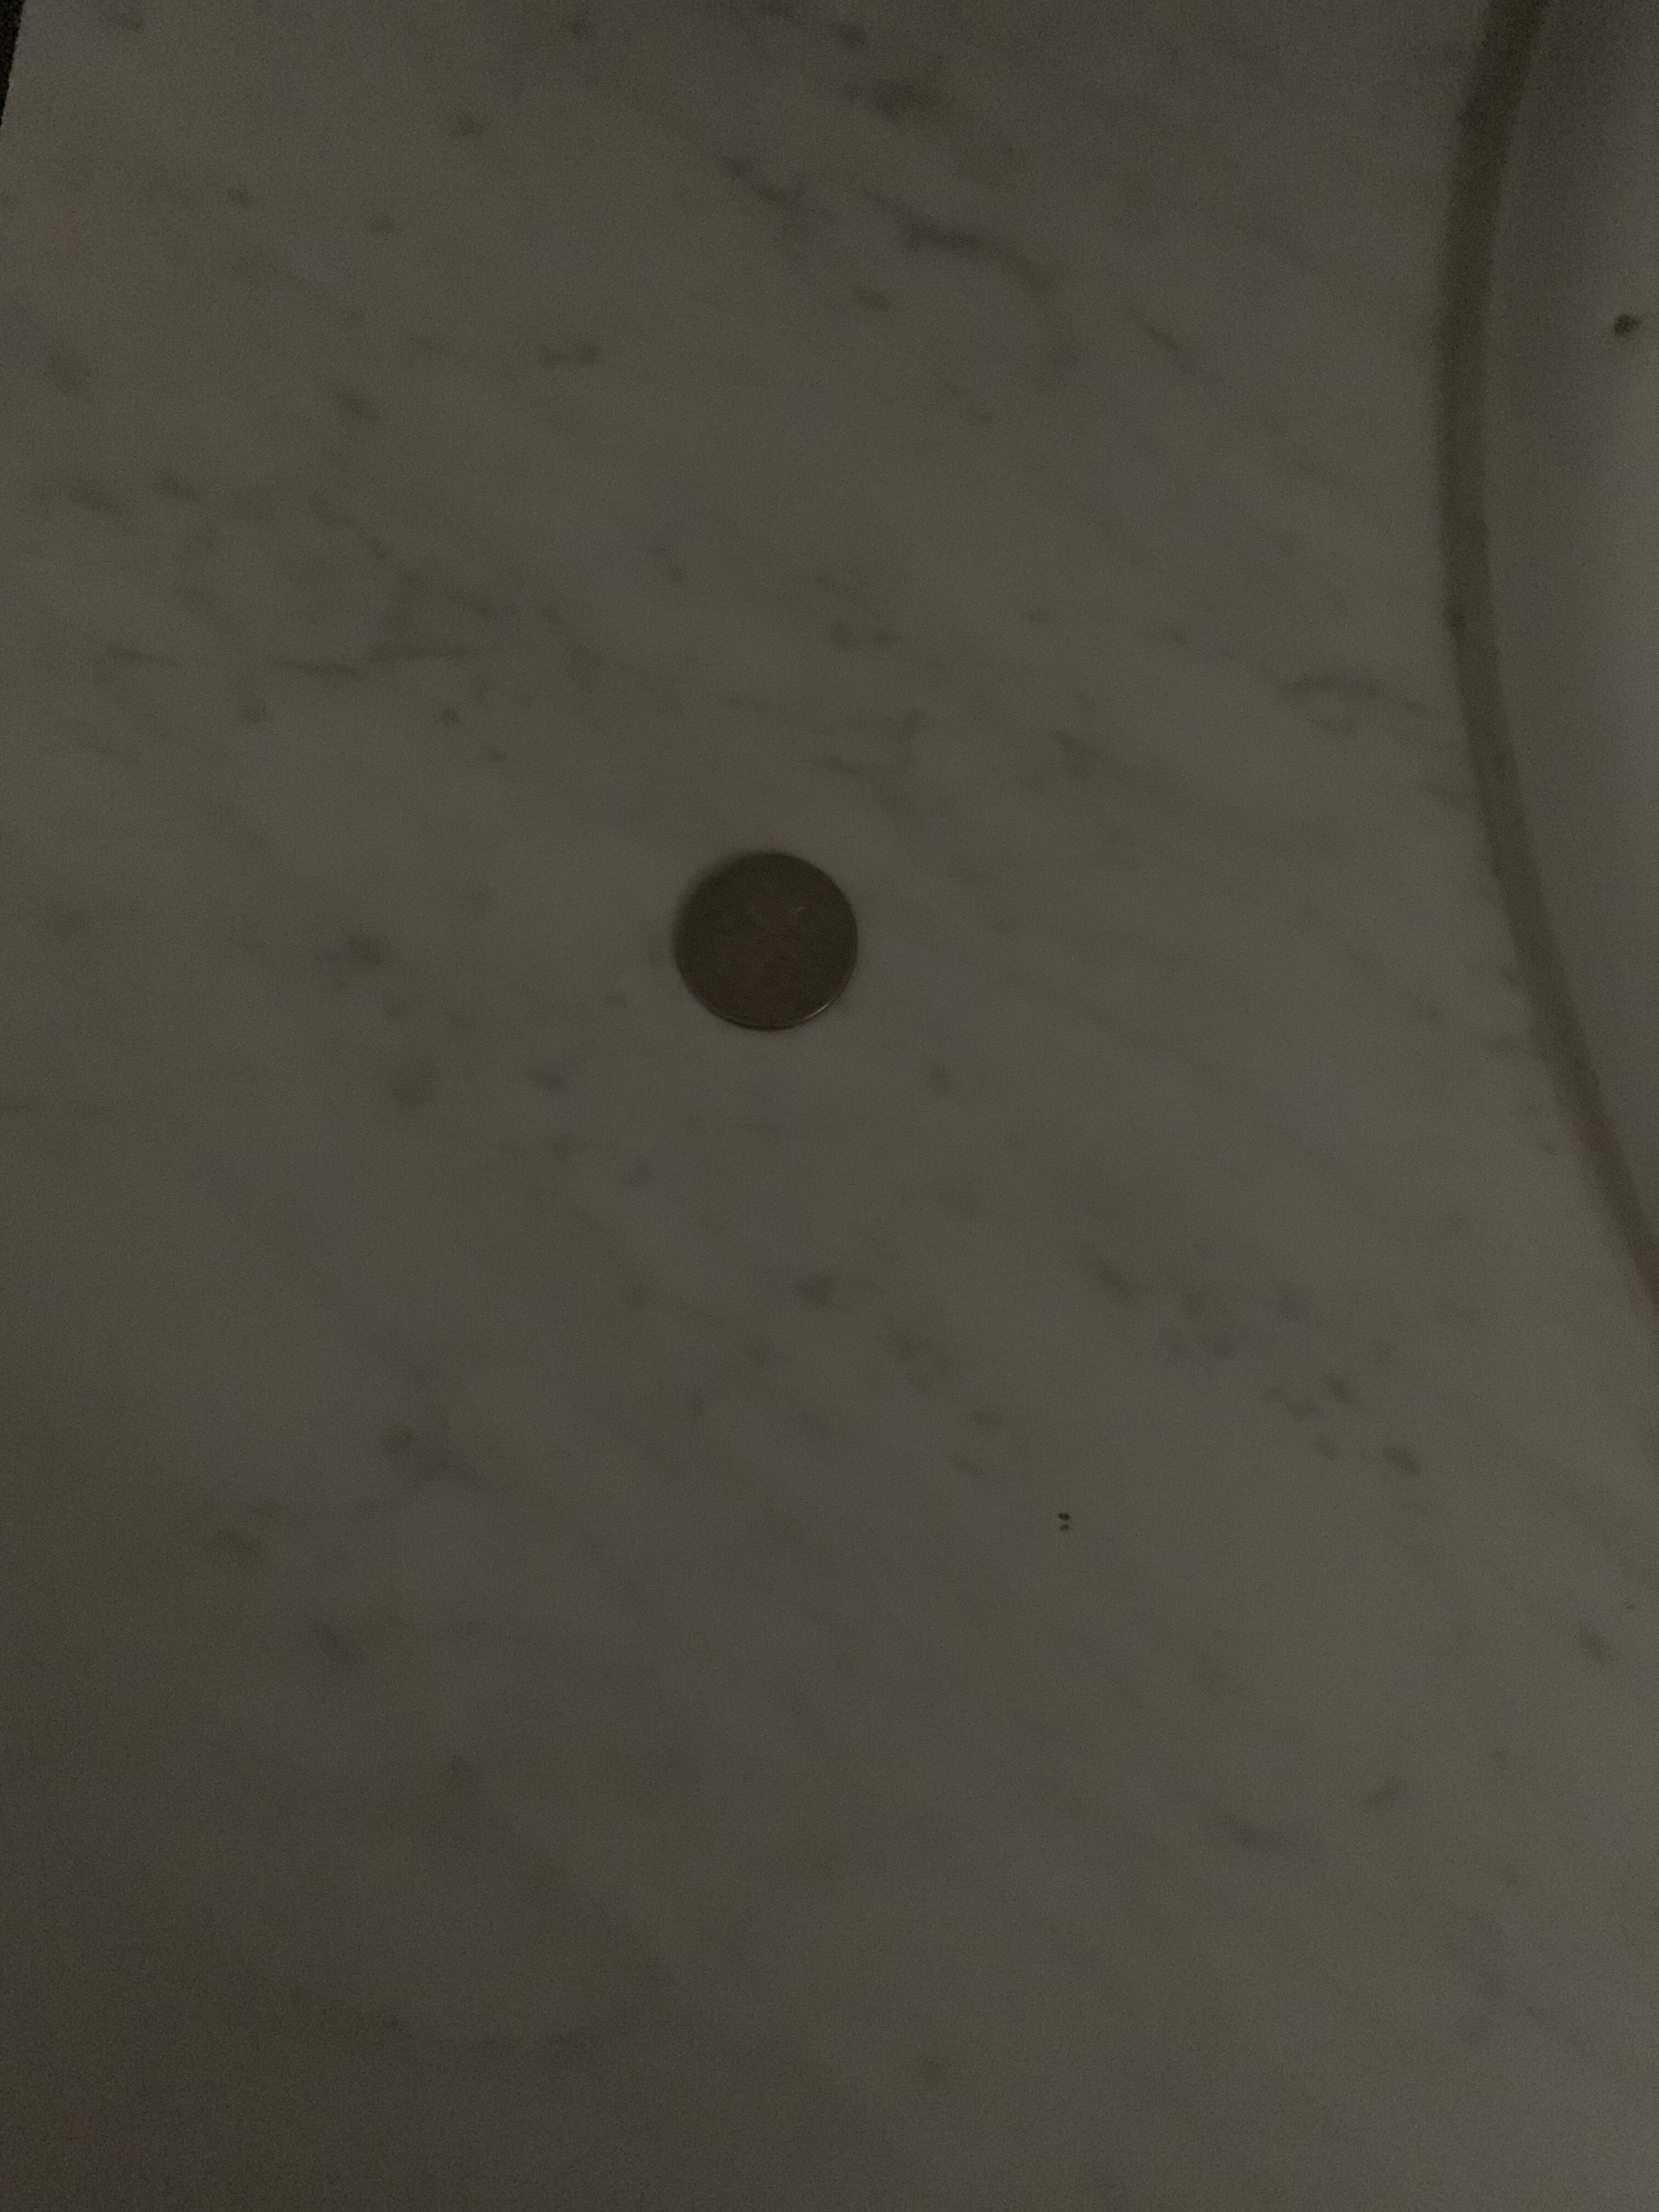Dime: (629, 812, 892, 1047)
